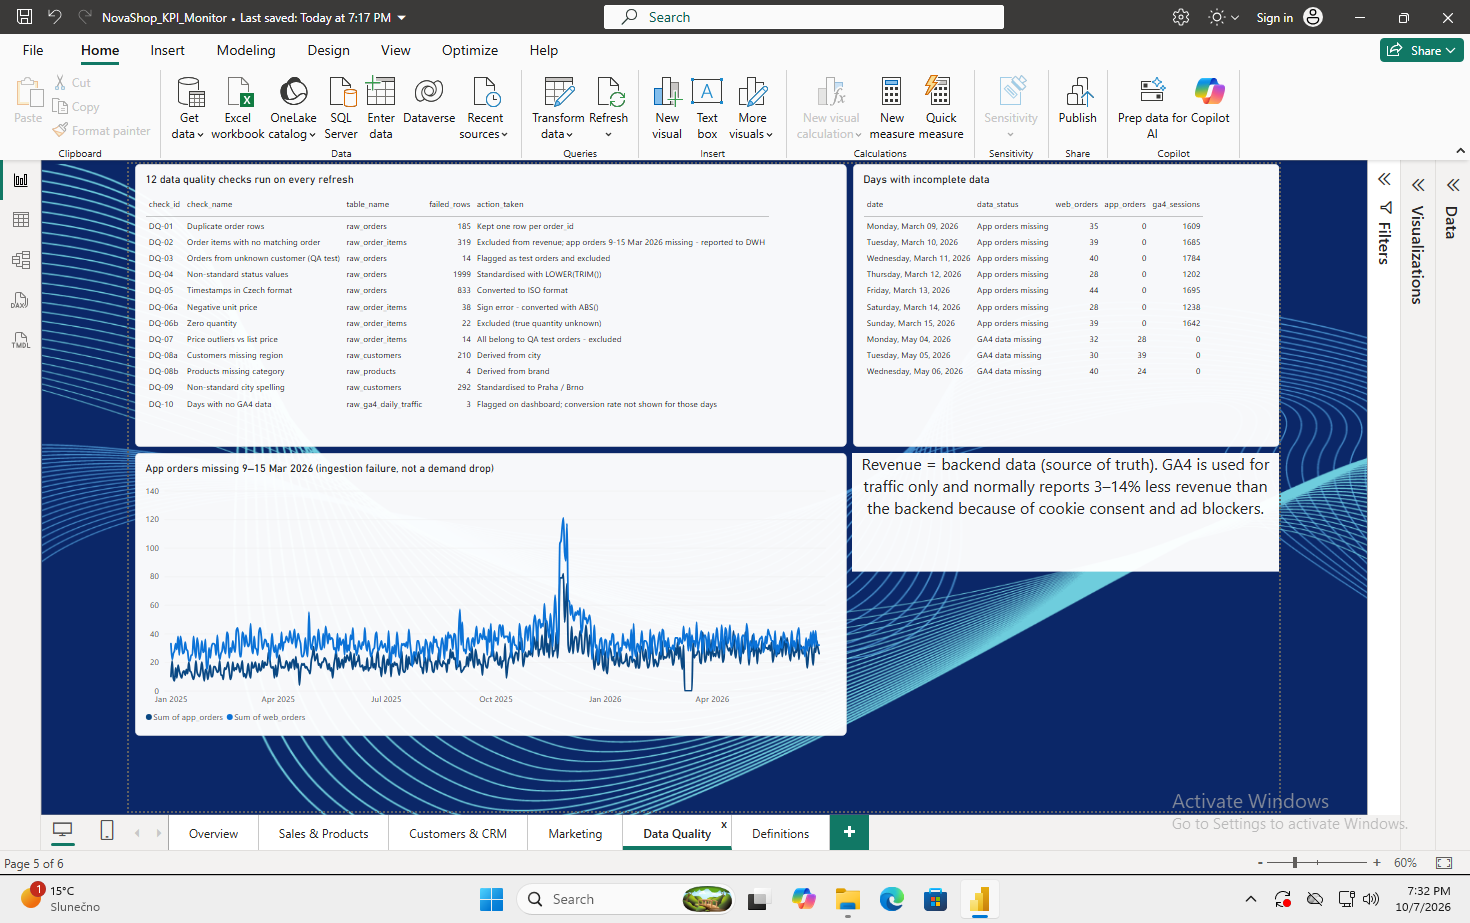

Layout of this report page (visuals, bound fields, positions):
{"tool":"powerbi","page":{"name":"Data Quality","canvas":[1920,1080],"ordinal":4},"visuals":[{"type":"tableEx","title":"12 data quality checks run on every refresh","fields":{"Values":["vw_dq_scorecard.check_id","vw_dq_scorecard.check_name","vw_dq_scorecard.table_name","vw_dq_scorecard.failed_rows","vw_dq_scorecard.action_taken"]},"box":[10.5,0,1188.2,472.1],"z":0},{"type":"lineChart","title":"App orders missing 9–15 Mar 2026 (ingestion failure, not a demand drop)","fields":{"Category":["dim_date.date"],"Y":["Sum(vw_daily_completeness.app_orders)","Sum(vw_daily_completeness.web_orders)"]},"box":[10,482,1188,472],"z":1},{"type":"tableEx","title":"Days with incomplete data","fields":{"Values":["vw_daily_completeness.date","vw_daily_completeness.data_status","vw_daily_completeness.web_orders","vw_daily_completeness.app_orders","vw_daily_completeness.ga4_sessions"]},"box":[1208,0,712,472],"z":2},{"type":"textbox","box":[1207.5,482.5,712.5,197.5],"z":3}]}

Visuals, with their boxes on the page's 1920x1080 design canvas (x1, y1, x2, y2). These are canvas units, not pixel positions in the 1470x923 screenshot, which may show the page scaled, cropped or inside an application window:
"12 data quality checks run on every refresh" tableEx: l=10, t=0, r=1199, b=472
"App orders missing 9–15 Mar 2026 (ingestion failure, not a demand drop)" lineChart: l=10, t=482, r=1198, b=954
"Days with incomplete data" tableEx: l=1208, t=0, r=1920, b=472
textbox: l=1208, t=482, r=1920, b=680
